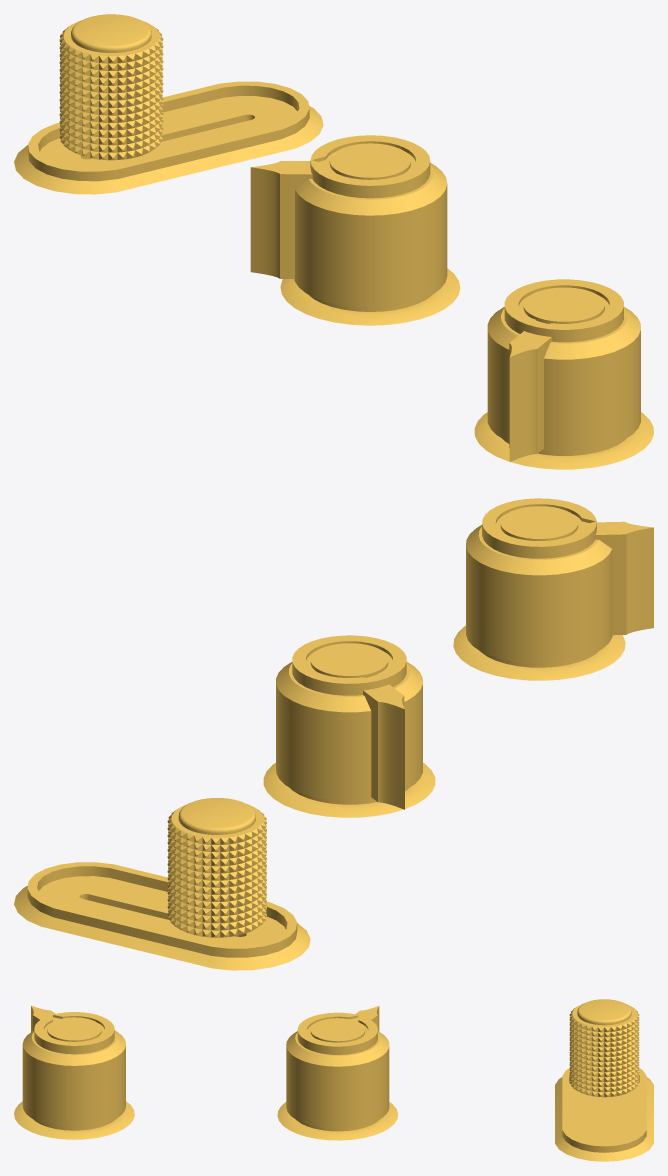
The model's file is GB_Button_B.glb.
The picture shows the model from 3 angles, top to bottom: view 1: azimuth 30°, elevation 25°; view 2: azimuth 150°, elevation 25°; view 3: azimuth 270°, elevation 25°; orthographic projection. The views are drawn at different scales.
Visible parts, largest first — view 1: GB_Button_B; view 2: GB_Button_B; view 3: GB_Button_B.
Part boxes in pixels (x1,y1,x2,y2): GB_Button_B: [14, 14, 653, 469]; GB_Button_B: [14, 498, 653, 970]; GB_Button_B: [14, 999, 653, 1161].
Bounding box in the file's own units: 0.0339 × 0.0154 × 0.0965.
